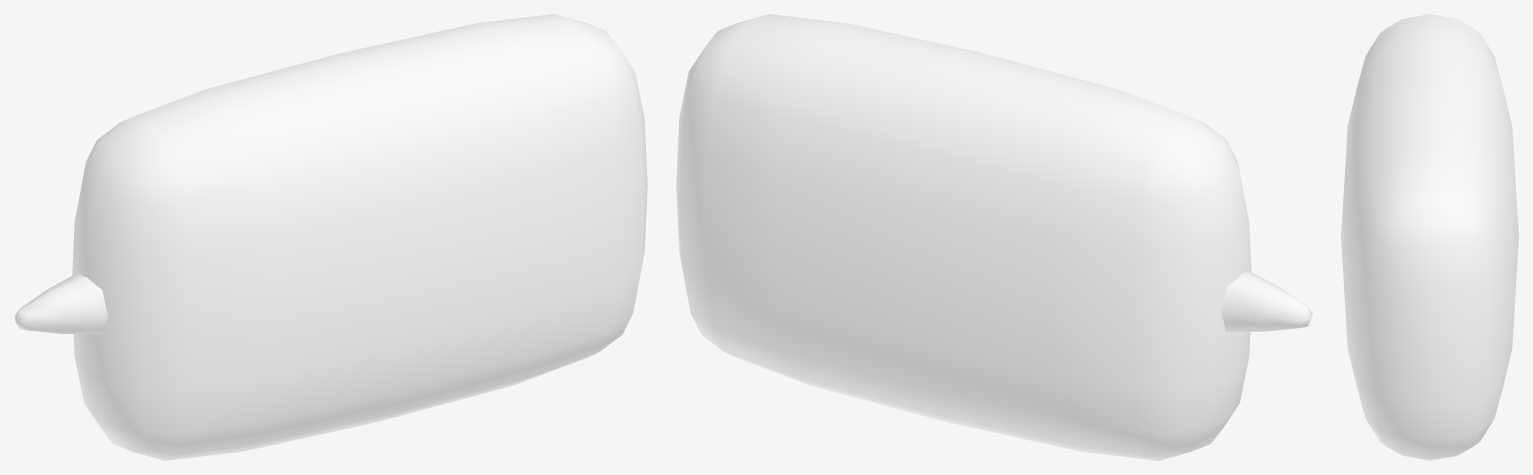
Rendered from TextBubbleHorizontal.glb.
3 views of the same model, side by side, from view 1: azimuth 30°, elevation 25°; view 2: azimuth 150°, elevation 25°; view 3: azimuth 270°, elevation 25° (orthographic). The views are drawn at different scales.
Visible parts, largest first — view 1: TextBubbleHorizontal; view 2: TextBubbleHorizontal; view 3: TextBubbleHorizontal.
Boxes of the visible parts, x1,y1,x2,y2 form: TextBubbleHorizontal: (14,14,647,460); TextBubbleHorizontal: (676,14,1312,460); TextBubbleHorizontal: (1341,14,1518,460).
Size of the model in its own units: 0.183 by 0.1002 by 0.0545.
Materials: 1 (1 with a texture image).
